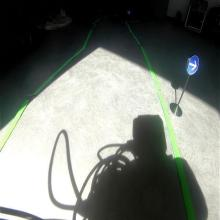right: (186, 53, 199, 74)
